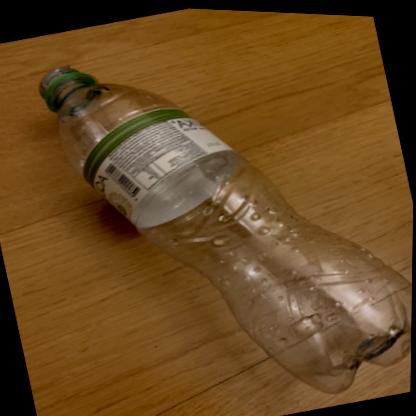Plastic: (39, 66, 413, 390)
